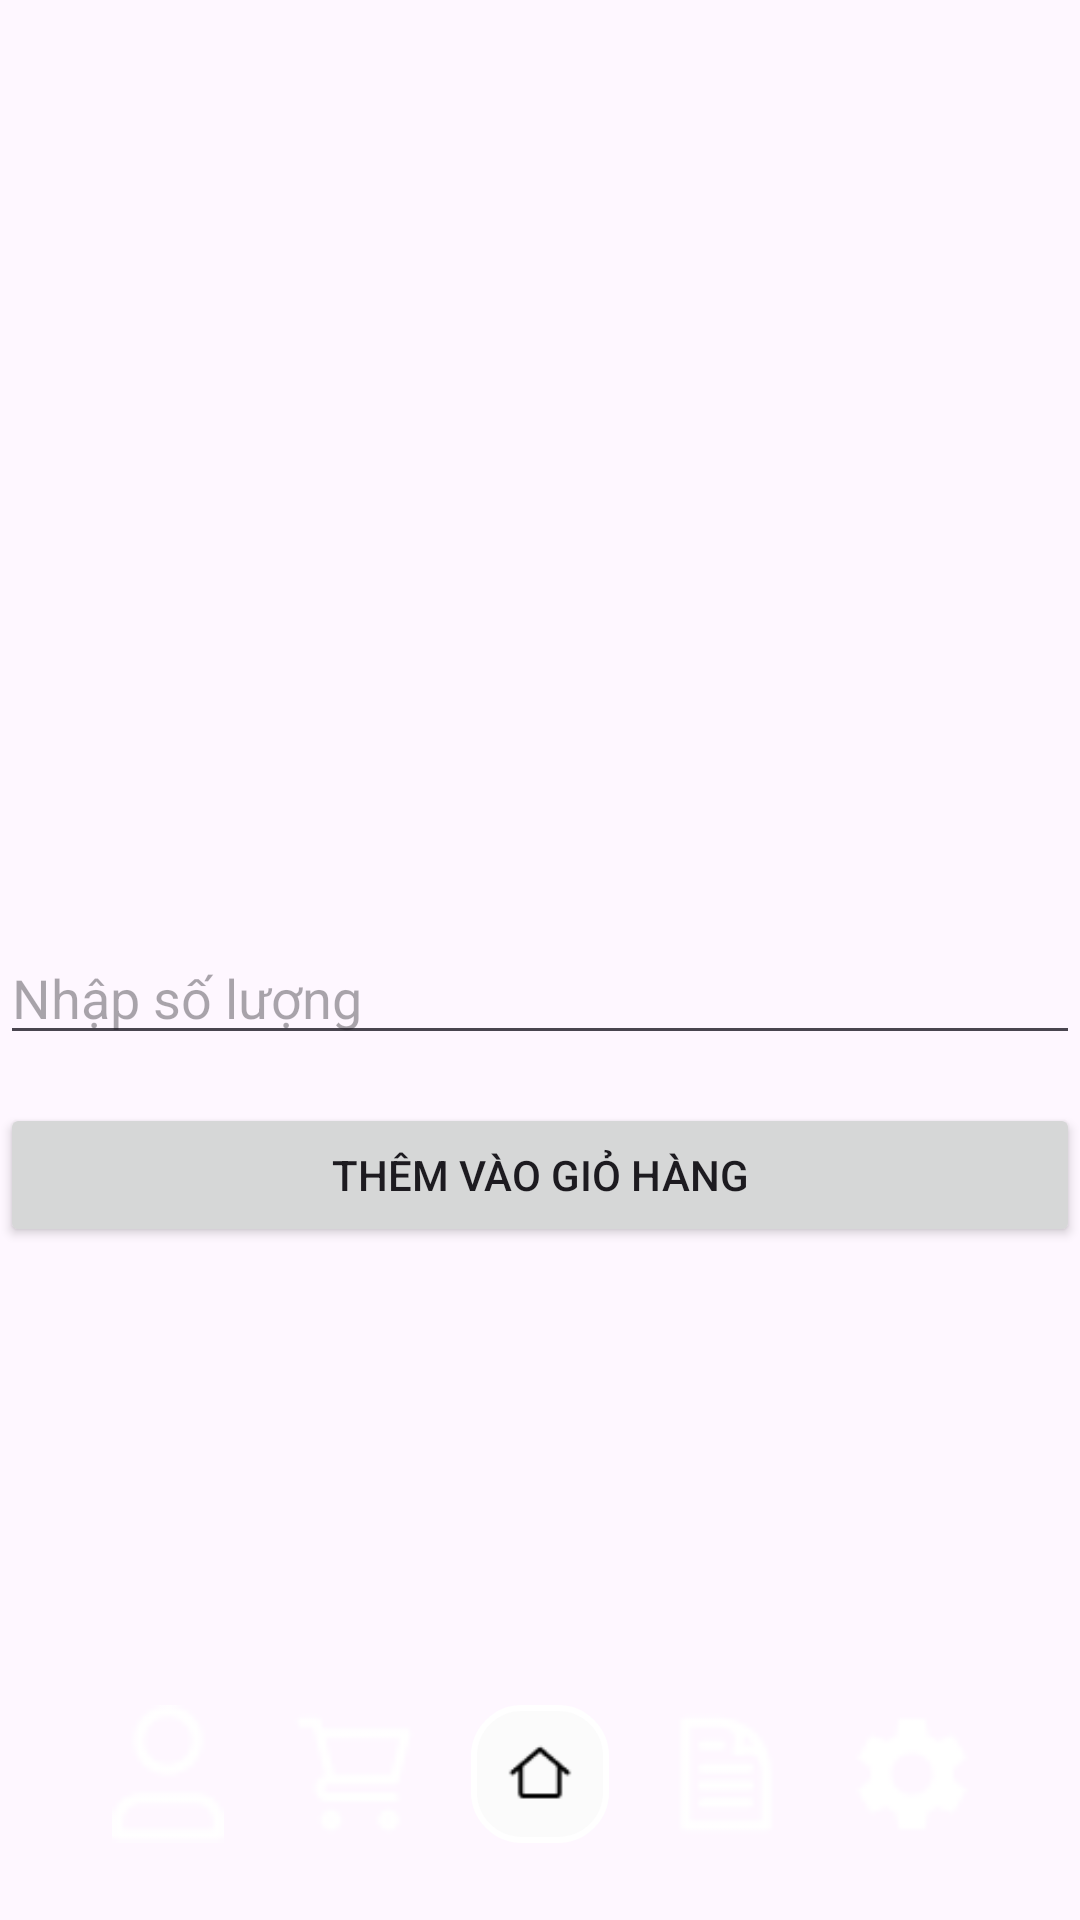

Icons on this 1080px×1920px Android screen, each with the point to tap as (x,y):
trang chu: (540,1772)
